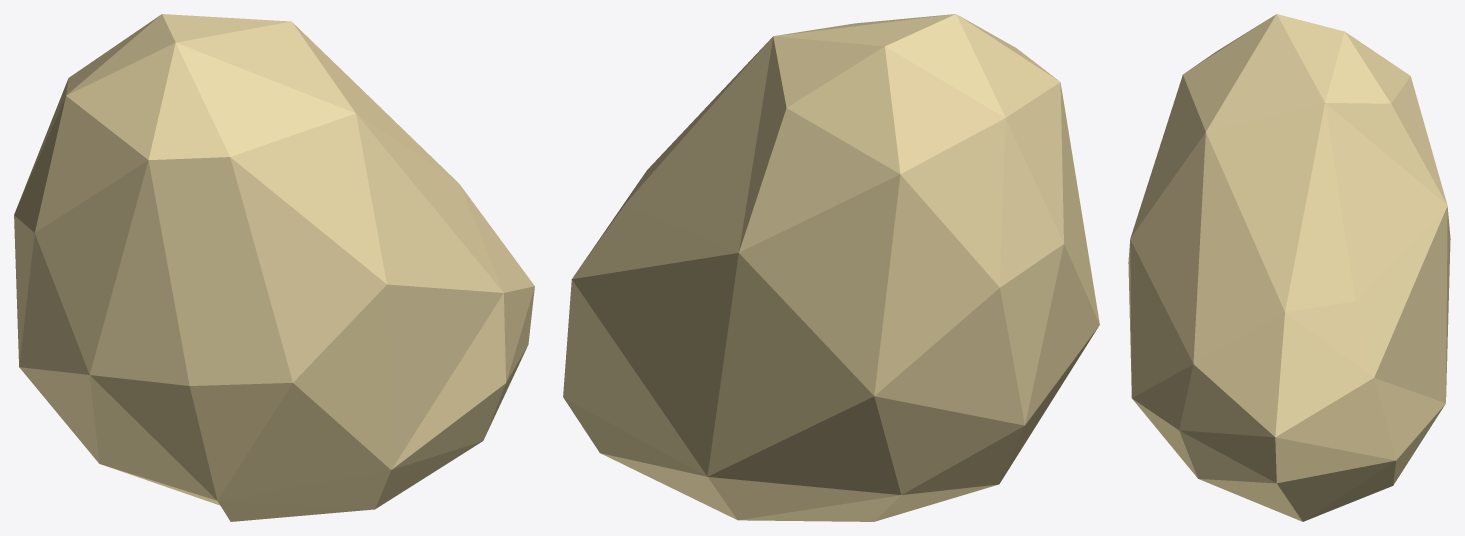
Rendered from Rock (54).fbx.
The picture shows the model from 3 angles, left to right: view 1: azimuth 30°, elevation 25°; view 2: azimuth 150°, elevation 25°; view 3: azimuth 270°, elevation 25°; orthographic projection. The views are drawn at different scales.
Visible parts, largest first — view 1: Asteroid53; view 2: Asteroid53; view 3: Asteroid53.
Boxes of the visible parts, x1,y1,x2,y2 form: Asteroid53: (14,14,534,521); Asteroid53: (563,14,1099,521); Asteroid53: (1128,14,1450,521).
Bounding box in the file's own units: 108 × 106 × 75.08.
